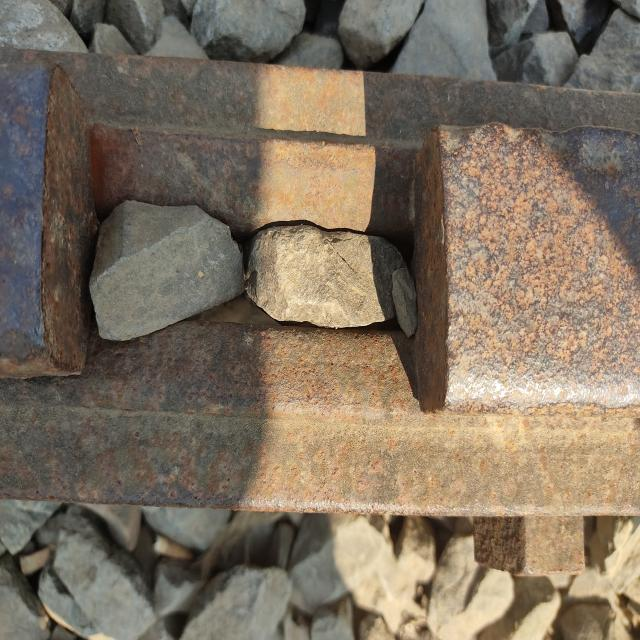fault: (26, 56, 493, 479)
